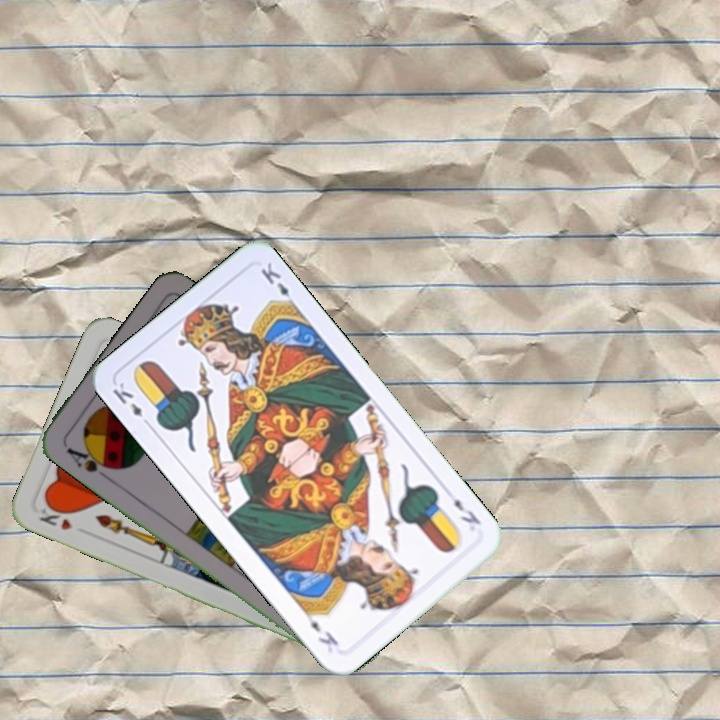EK: (108, 378, 154, 430), (449, 494, 484, 528)
HK: (35, 499, 74, 533)
SA: (62, 441, 118, 483)
